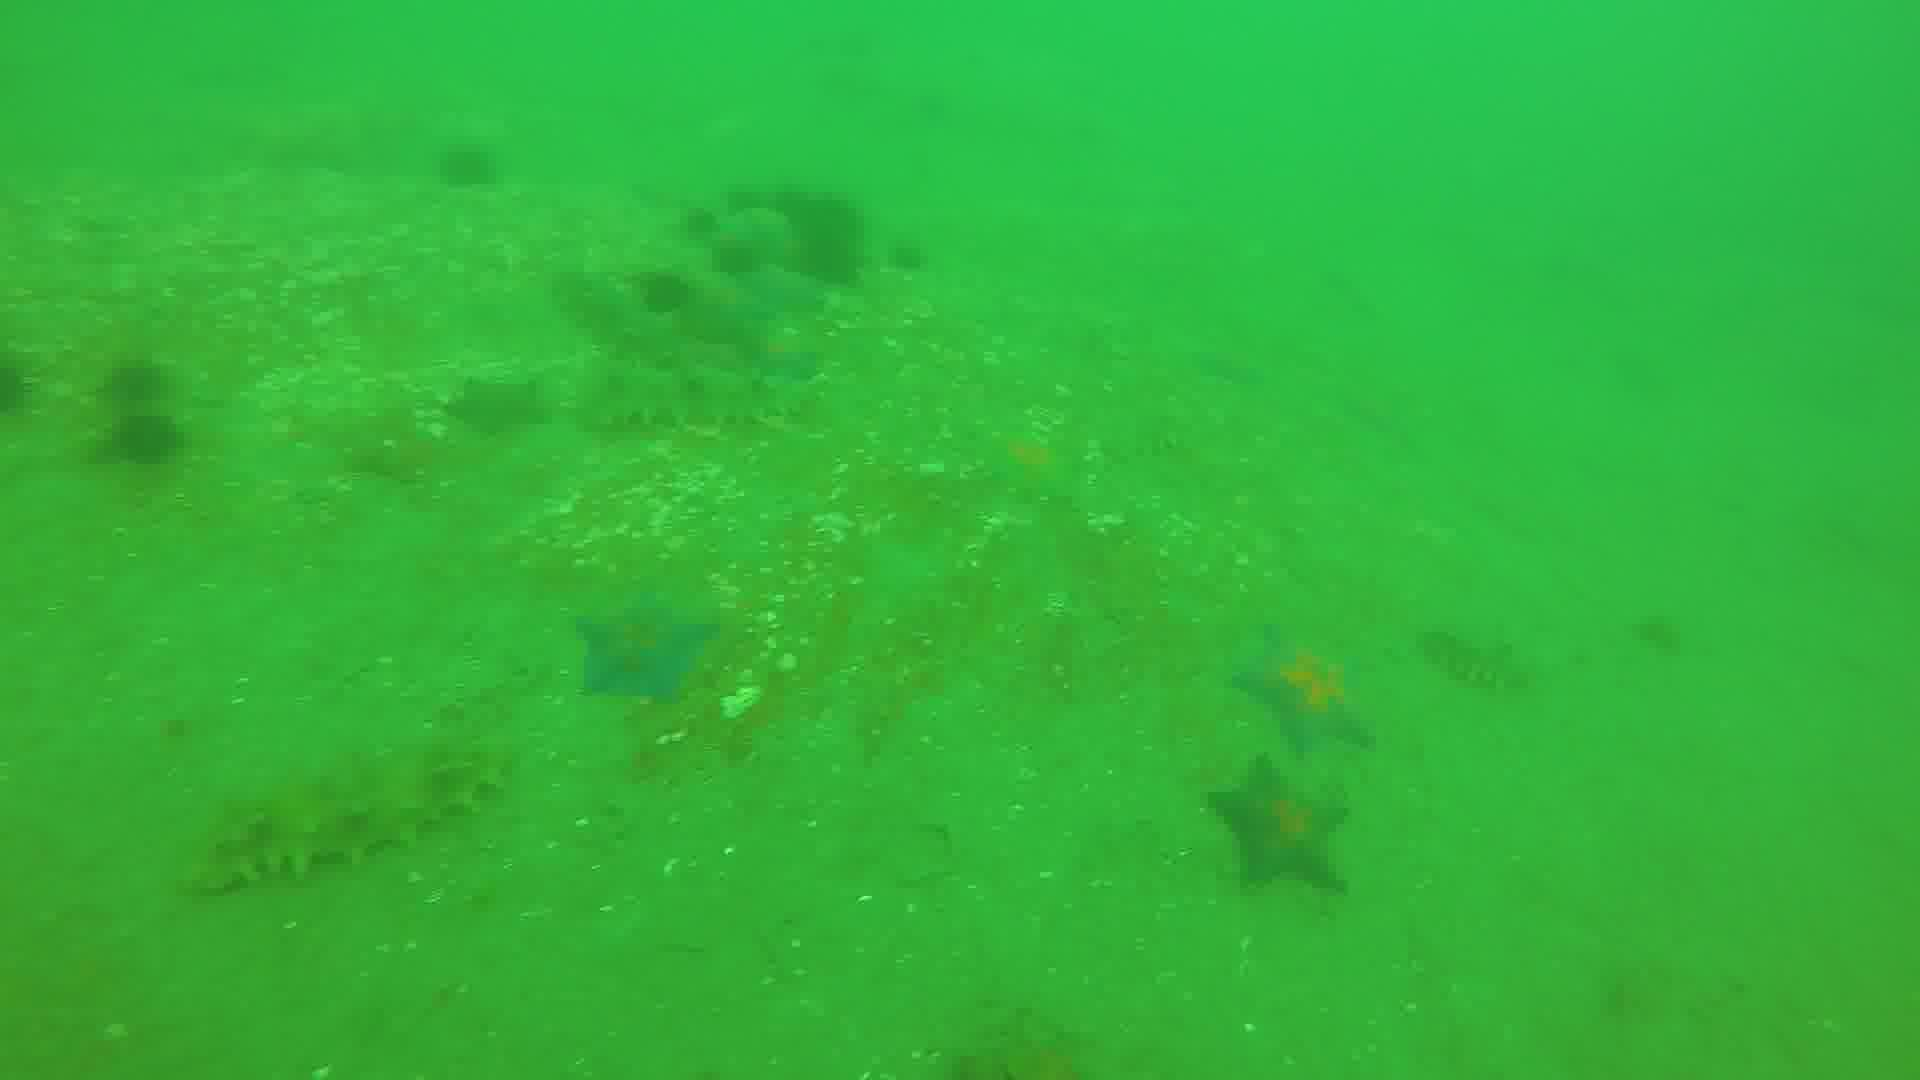echinus: (102, 409, 196, 471), (793, 225, 869, 291), (640, 253, 699, 319), (793, 189, 864, 243), (103, 357, 160, 404), (741, 190, 796, 233), (440, 142, 487, 193)
holothurian: (189, 732, 520, 887), (556, 266, 742, 378), (571, 375, 820, 435), (1416, 625, 1538, 694)
starfish: (1230, 616, 1383, 757), (1215, 752, 1352, 890), (585, 600, 727, 708), (448, 375, 564, 438), (988, 430, 1091, 501), (715, 255, 811, 316)
